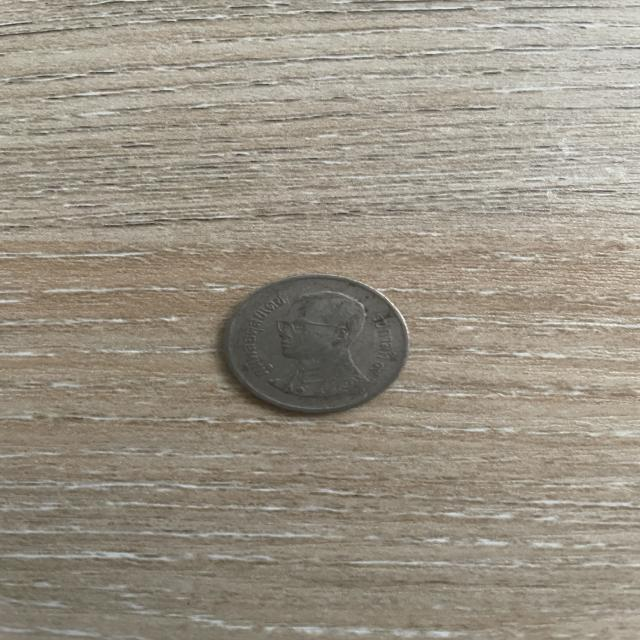1 Bath: (217, 268, 419, 424)
